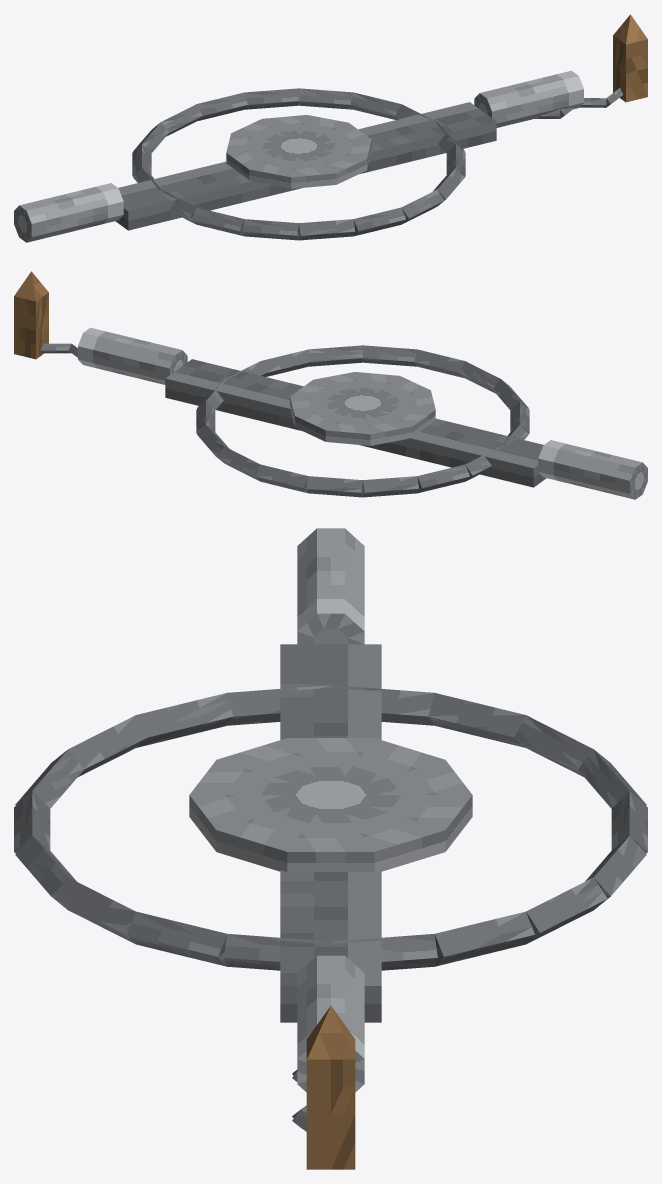
Rendered from tr_beartrap.glb.
3 views of the same model, one above another, from view 1: azimuth 30°, elevation 25°; view 2: azimuth 150°, elevation 25°; view 3: azimuth 270°, elevation 25° (orthographic). The views are drawn at different scales.
Visible parts, largest first — view 1: block_jaw (×15), block_base bar, block_pressure plate, block_spring (×2), block_stake; view 2: block_jaw (×15), block_base bar, block_pressure plate, block_spring (×2), block_stake; view 3: block_jaw (×18), block_pressure plate, block_base bar, block_spring (×2), block_stake.
Part boxes in pixels (x1=…): block_jaw (×15): x1=132, y1=88, x2=465, y2=240; block_base bar: x1=115, y1=102, x2=496, y2=230; block_pressure plate: x1=226, y1=115, x2=371, y2=188; block_spring (×2): x1=14, y1=70, x2=583, y2=242; block_stake: x1=613, y1=14, x2=647, y2=102; block_jaw (×15): x1=196, y1=345, x2=529, y2=497; block_base bar: x1=165, y1=359, x2=546, y2=487; block_pressure plate: x1=290, y1=372, x2=435, y2=445; block_spring (×2): x1=78, y1=327, x2=647, y2=499; block_stake: x1=14, y1=271, x2=48, y2=359; block_jaw (×18): x1=14, y1=685, x2=647, y2=970; block_pressure plate: x1=189, y1=738, x2=472, y2=871; block_base bar: x1=280, y1=644, x2=381, y2=1022; block_spring (×2): x1=297, y1=528, x2=364, y2=1092; block_stake: x1=306, y1=1006, x2=355, y2=1169.
Bounding box in the file's own units: 0.8736 × 0.1092 × 0.4075.
Materials: 2 (2 with a texture image).
